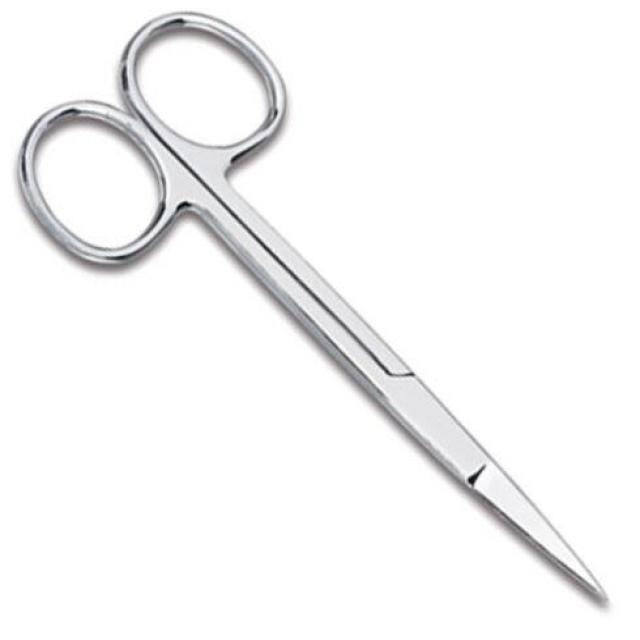scissors: (14, 9, 615, 603)
